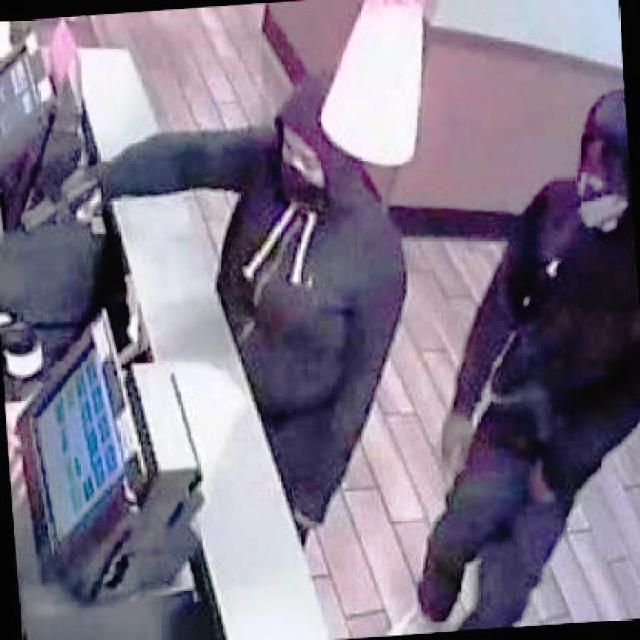Gun: (25, 169, 121, 238)
